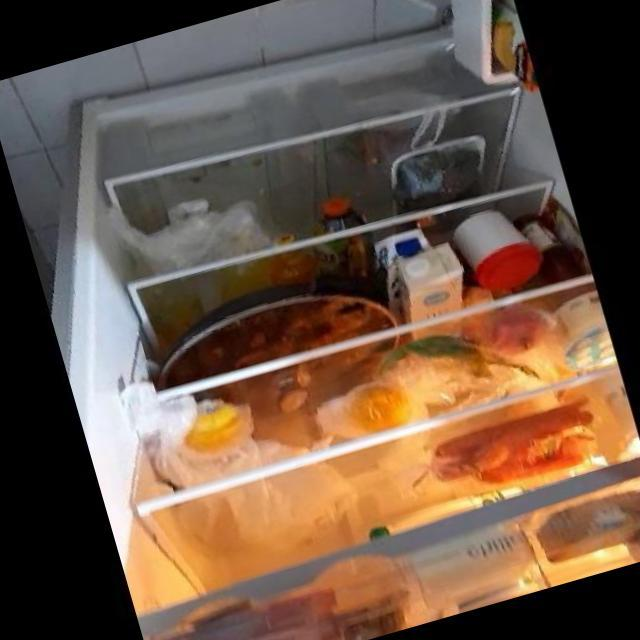Brocoli: (393, 134, 491, 210)
Limón: (174, 394, 256, 462), (344, 379, 416, 438)
Mantequilla: (533, 486, 640, 567)
Queso: (401, 522, 536, 604)
Yogur: (545, 295, 618, 379), (453, 567, 547, 613)
Zanahoria: (424, 402, 602, 499)
bread: (295, 588, 417, 640)
green chilies: (385, 322, 492, 389)
juice: (484, 9, 536, 96)
milk: (366, 480, 529, 545), (369, 223, 468, 327)
salami: (178, 614, 323, 640)
tomato paste: (477, 301, 554, 365)
